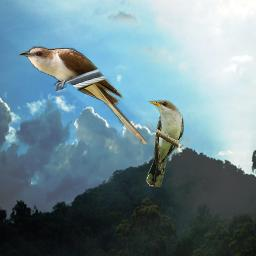Cuckoo: (18, 46, 150, 147), (146, 100, 184, 187)
